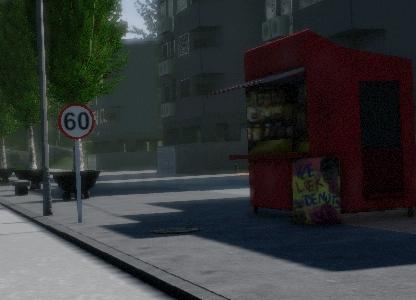Speed_60: (132, 95, 174, 136)
